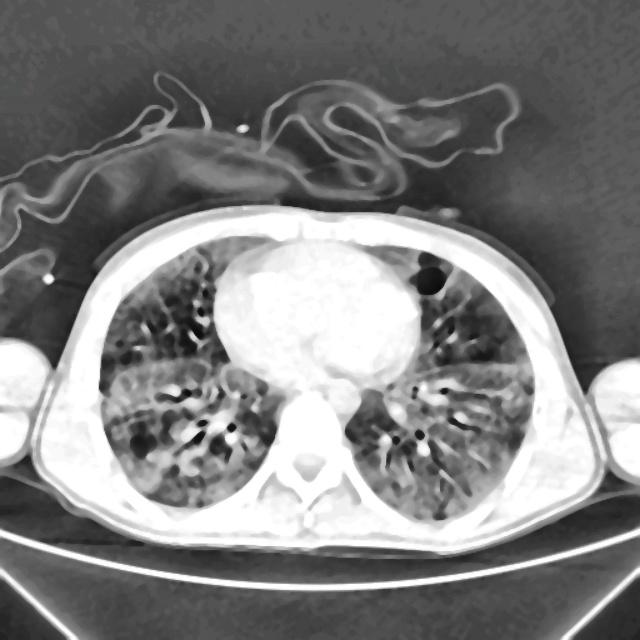covid: (30, 202, 608, 556)
